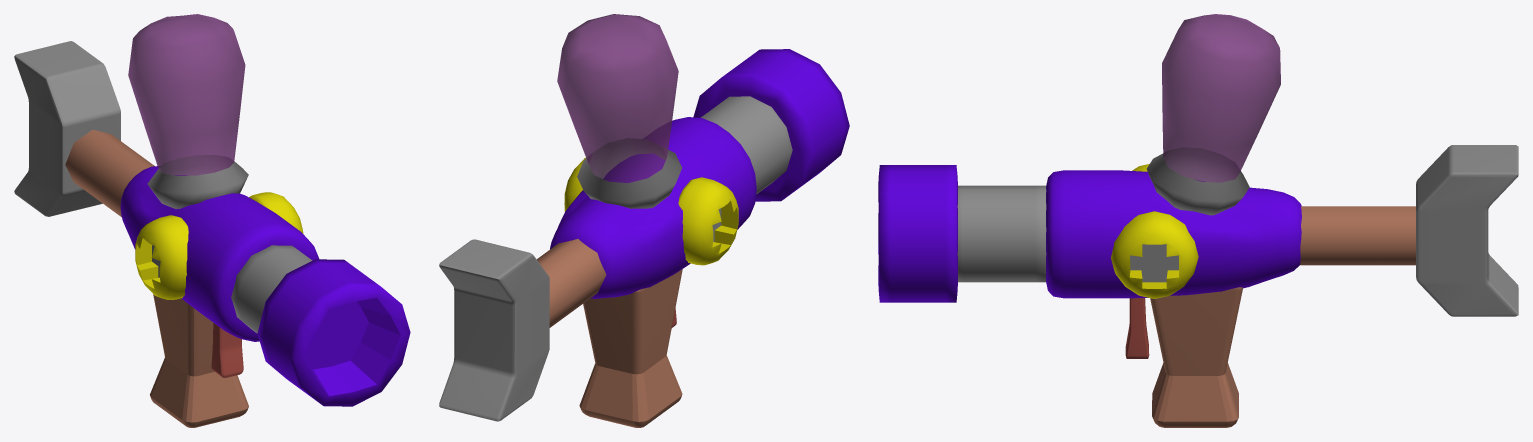
File: METRALLETA.fbx
The picture shows the model from 3 angles, left to right: view 1: azimuth 30°, elevation 25°; view 2: azimuth 150°, elevation 25°; view 3: azimuth 270°, elevation 25°; orthographic projection. The views are drawn at different scales.
Visible parts, largest first — view 1: Recamara, pCylinder4, Culatatín, Cuerpo, Empuñadura, Tornillo1, Cañon, Gatillo, Tornillo2; view 2: Culatatín, Recamara, Cuerpo, Empuñadura, pCylinder4, Cañon, Tornillo1, Tornillo2; view 3: Culatatín, Cuerpo, Recamara, pCylinder4, Empuñadura, Cañon, Tornillo2, Gatillo.
Part boxes in pixels (x1,y1,x2,y2): Recamara: (128, 14, 248, 209); pCylinder4: (257, 259, 410, 406); Culatatín: (14, 41, 154, 217); Cuerpo: (120, 166, 319, 341); Empuñadura: (150, 294, 248, 427); Tornillo1: (135, 215, 188, 299); Cañon: (231, 245, 312, 333); Gatillo: (211, 323, 243, 377); Tornillo2: (249, 192, 303, 233); Culatatín: (439, 239, 606, 421); Recamara: (557, 14, 681, 208); Cuerpo: (550, 117, 756, 298); Empuñadura: (579, 269, 682, 427); pCylinder4: (693, 49, 849, 201); Cañon: (700, 96, 792, 194); Tornillo1: (678, 177, 738, 265); Tornillo2: (564, 157, 586, 211); Culatatín: (1300, 145, 1518, 316); Cuerpo: (1046, 170, 1301, 298); Recamara: (1146, 14, 1280, 215); pCylinder4: (878, 165, 957, 302); Empuñadura: (1150, 287, 1242, 427); Cañon: (957, 185, 1046, 282); Tornillo2: (1111, 211, 1198, 298); Gatillo: (1125, 298, 1149, 358).
Bounding box in the file's own units: 28.63 × 70.86 × 105.
